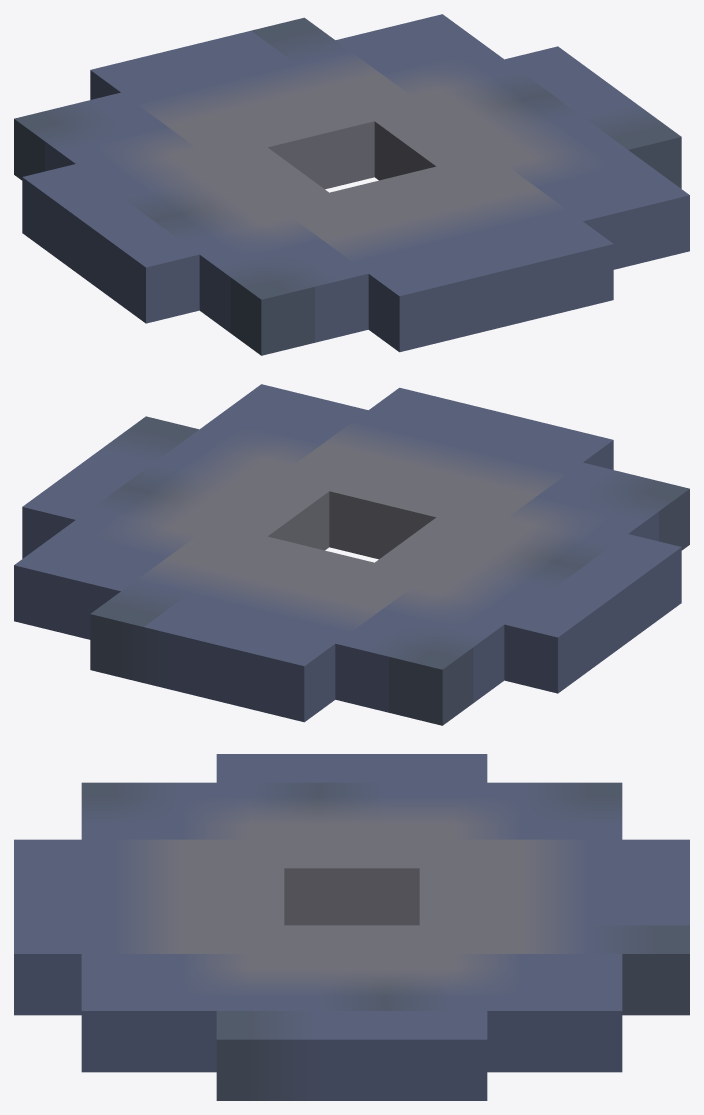
File: Manhole.fbx
3 views of the same model, one above another, from view 1: azimuth 30°, elevation 25°; view 2: azimuth 150°, elevation 25°; view 3: azimuth 270°, elevation 25° (orthographic). The views are drawn at different scales.
Visible parts, largest first — view 1: Manhole; view 2: Manhole; view 3: Manhole.
Boxes of the visible parts, box(x1,y1,x2,y2) form: Manhole: box(14, 14, 689, 355); Manhole: box(14, 384, 689, 725); Manhole: box(14, 754, 689, 1100).
Size of the model in its own units: 100 by 10 by 100.
Materials: 1 (1 with a texture image).
